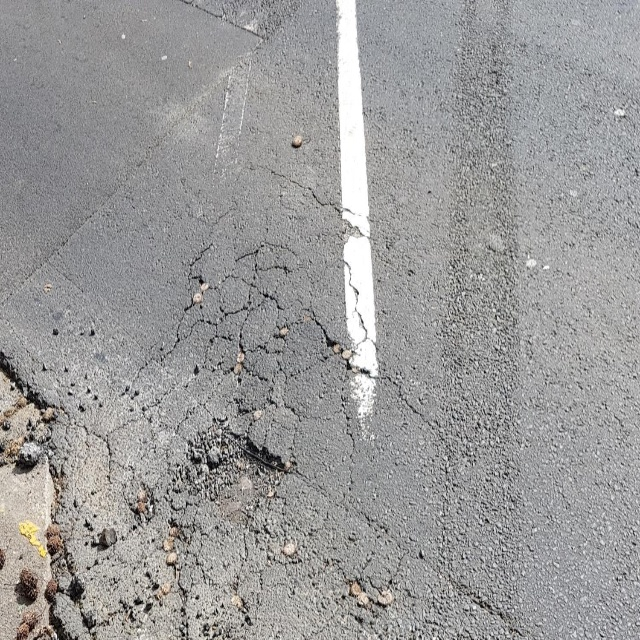pothole: (0, 358, 61, 640)
